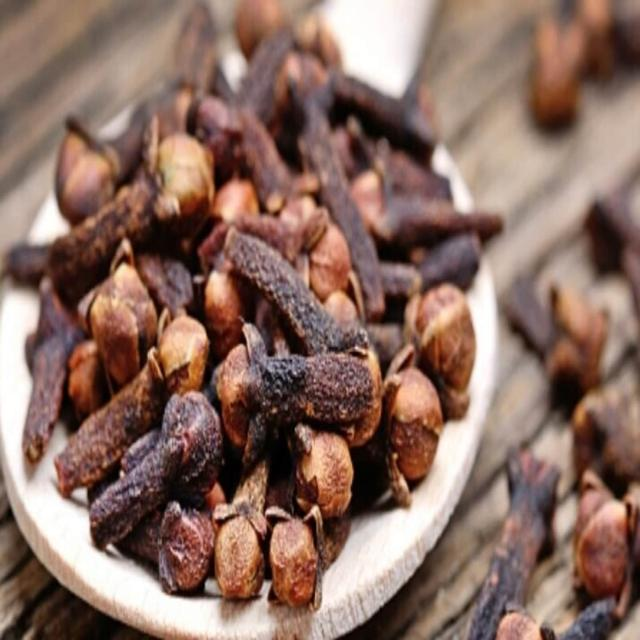clove: (2, 4, 502, 605)
